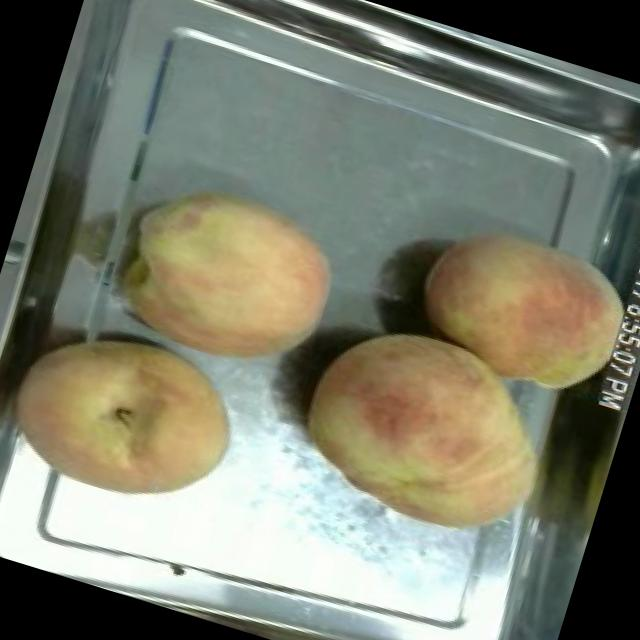Fruit: (277, 296, 577, 560), (99, 160, 365, 396), (0, 293, 260, 532), (395, 200, 640, 419)
